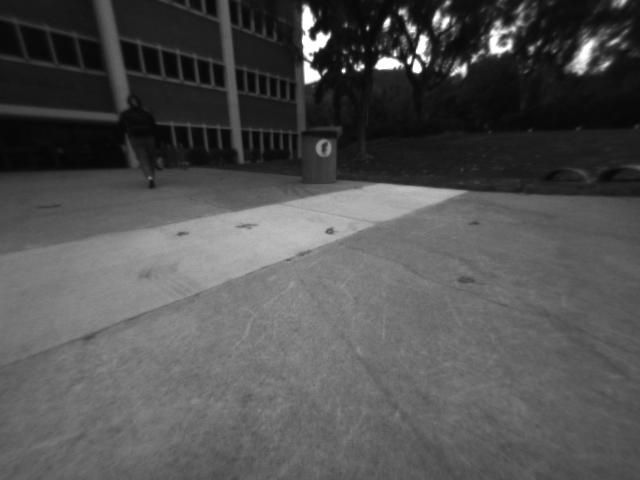trashcan: (299, 131, 347, 190)
